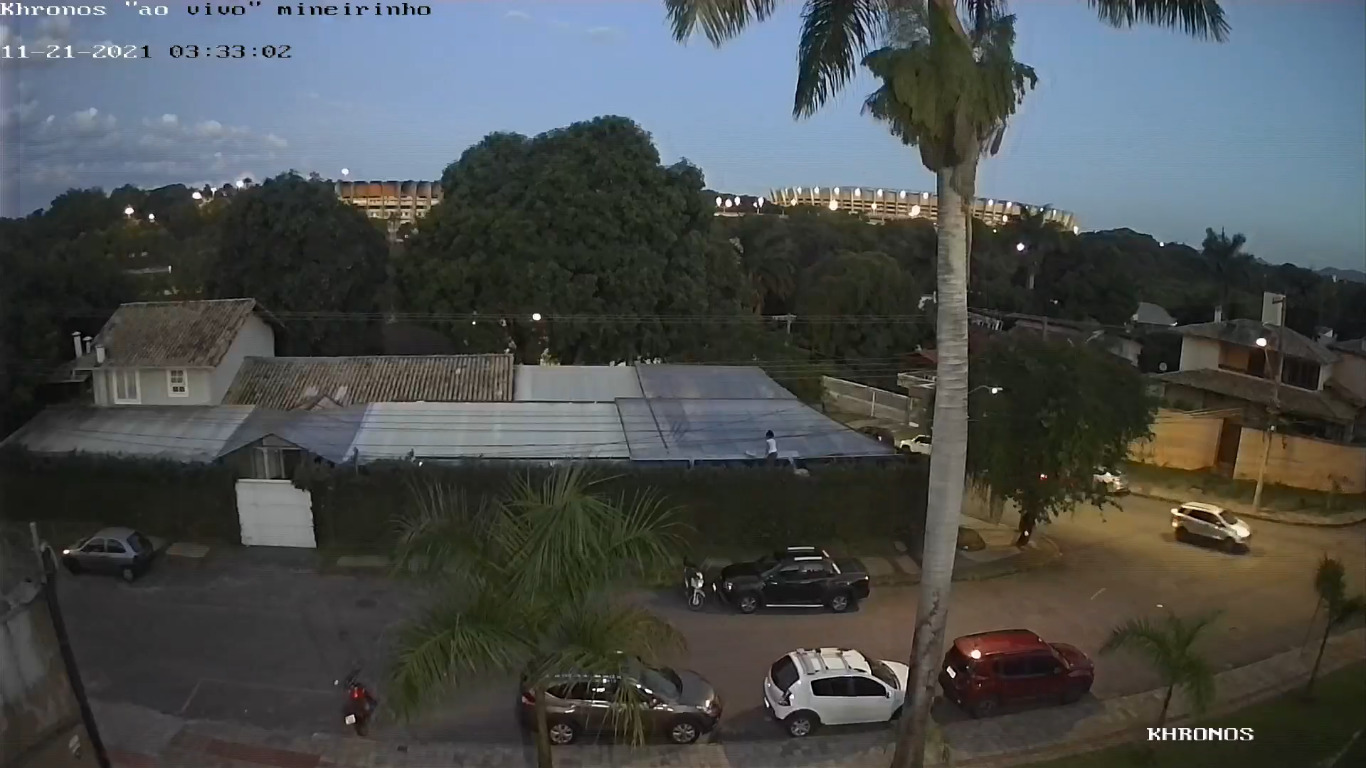car: (513, 648, 724, 750), (938, 626, 1097, 719), (763, 646, 921, 739), (716, 543, 871, 615), (1169, 499, 1253, 556)
motorcycle: (336, 672, 378, 742), (677, 560, 711, 612)
